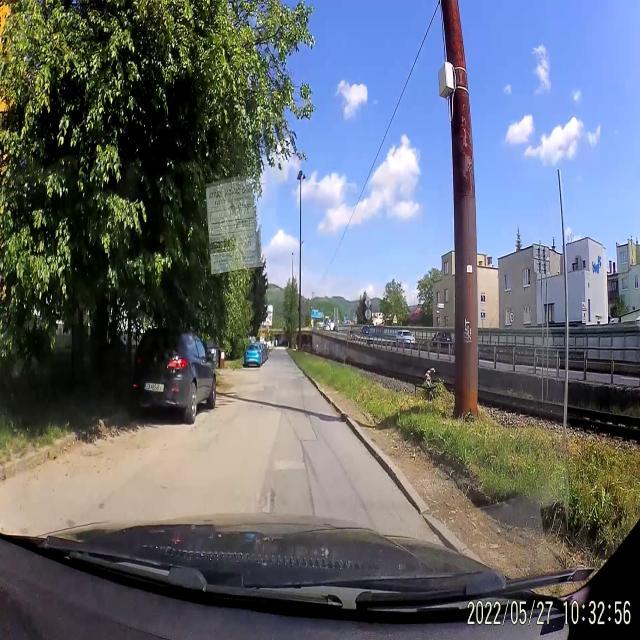Pothole: (260, 486, 276, 514)
